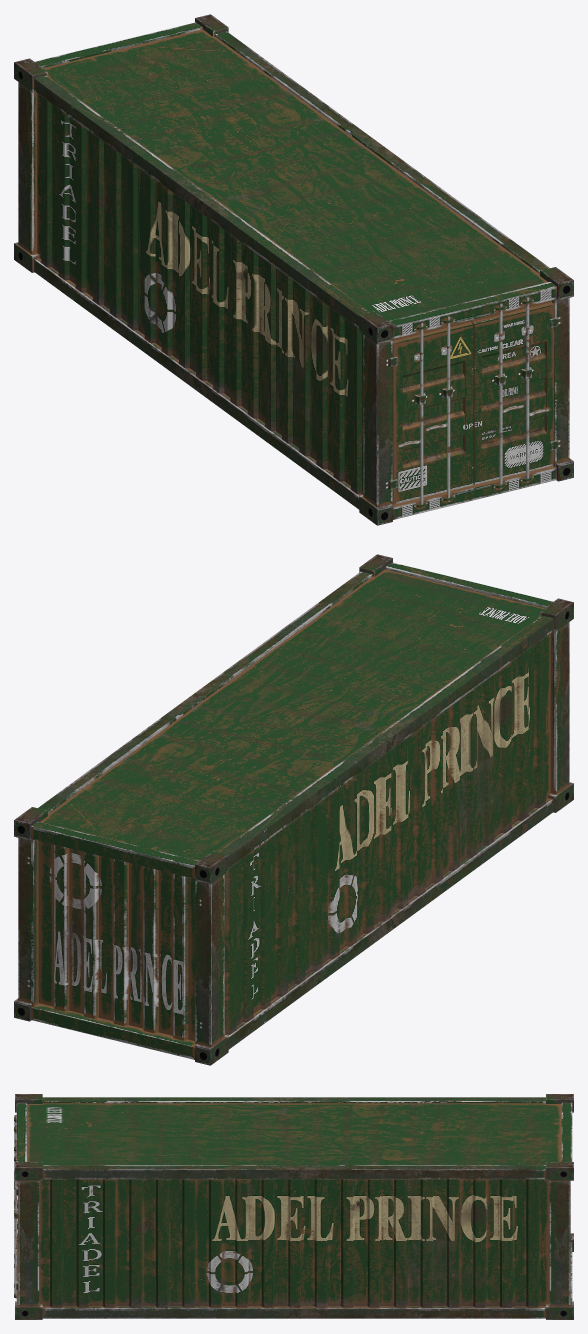
File: container_adelprince.glb
3 views of the same model, one above another, from view 1: azimuth 30°, elevation 25°; view 2: azimuth 150°, elevation 25°; view 3: azimuth 270°, elevation 25° (orthographic). The views are drawn at different scales.
Visible parts, largest first — view 1: Object002_Material #5_0; view 2: Object002_Material #5_0; view 3: Object002_Material #5_0.
Part boxes in pixels (<box>): Object002_Material #5_0: <box>14,14,573,525</box>; Object002_Material #5_0: <box>14,554,573,1065</box>; Object002_Material #5_0: <box>14,1094,573,1319</box>.
Bounding box in the file's own units: 2.5 × 2.4 × 8.01.
1 material, 1 textured.
